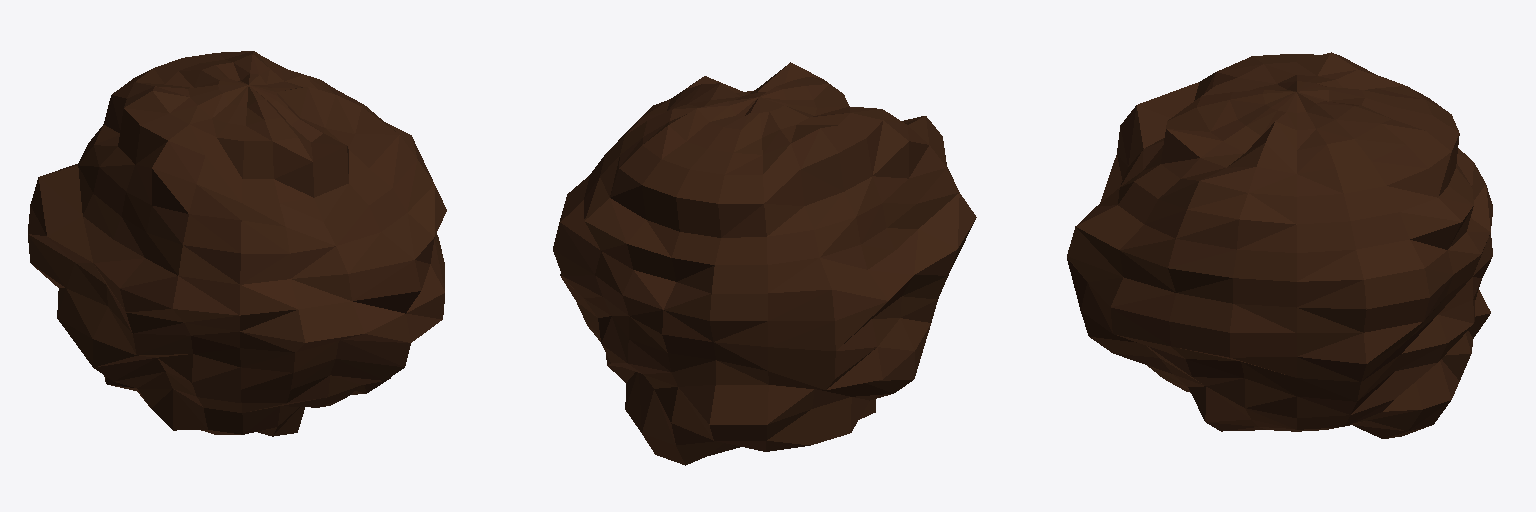
The model's file is asteroid_big.obj.
The picture shows the model from 3 angles: view 1: azimuth 30°, elevation 25°; view 2: azimuth 150°, elevation 25°; view 3: azimuth 270°, elevation 25°; orthographic projection.
Parts seen in each view (by area): view 1: asteroid_big:pSphere1; view 2: asteroid_big:pSphere1; view 3: asteroid_big:pSphere1.
Part boxes in pixels (x1,y1,x2,y2): asteroid_big:pSphere1: (28,51,446,436); asteroid_big:pSphere1: (553,62,976,465); asteroid_big:pSphere1: (1067,52,1492,438).
Bounding box in the file's own units: 69.55 × 67.21 × 78.01.